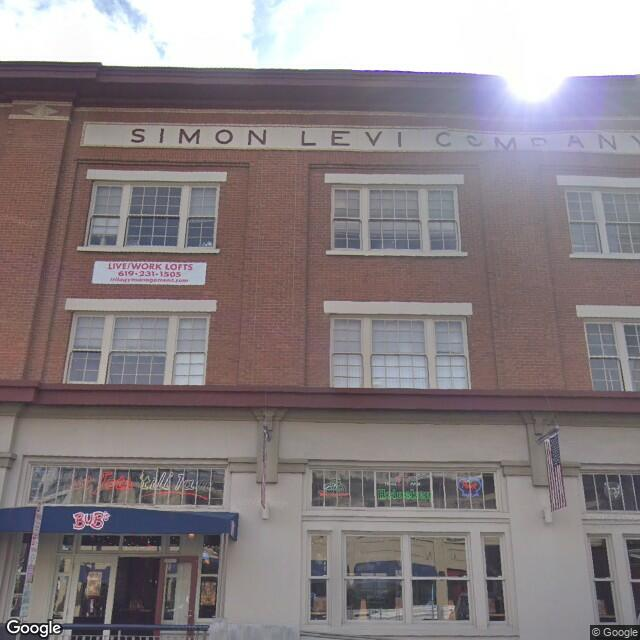window: (47, 314, 221, 387), (326, 306, 461, 389), (407, 531, 472, 630), (338, 530, 400, 627), (582, 313, 632, 398), (363, 188, 422, 257), (132, 182, 177, 252), (570, 184, 613, 255), (482, 533, 513, 629), (422, 186, 465, 251), (590, 534, 618, 626), (89, 184, 114, 245)
